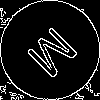M: (25, 25, 87, 87)
